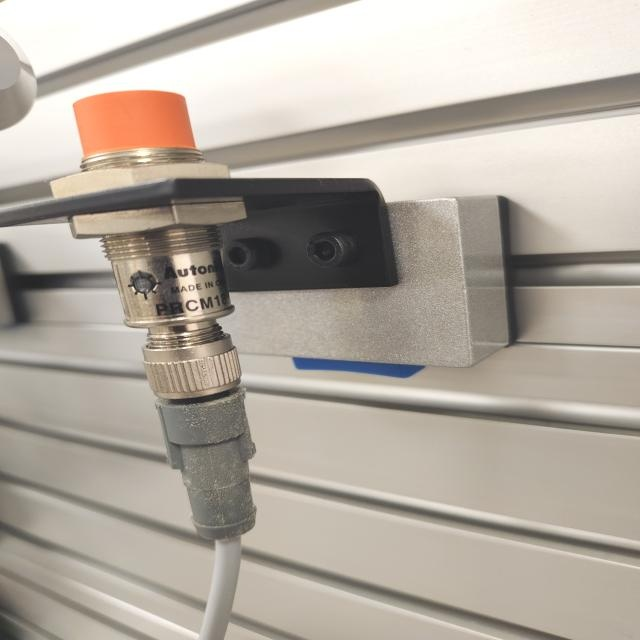inductive sensor: (31, 85, 521, 559)
